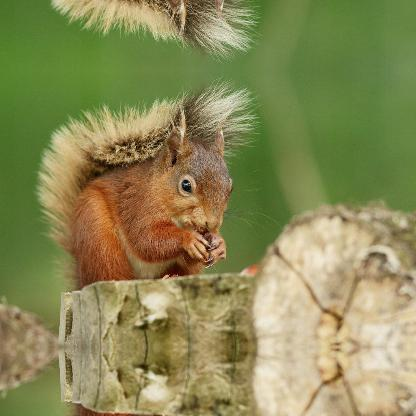Squirrel: (27, 75, 280, 288), (26, 0, 280, 64)
